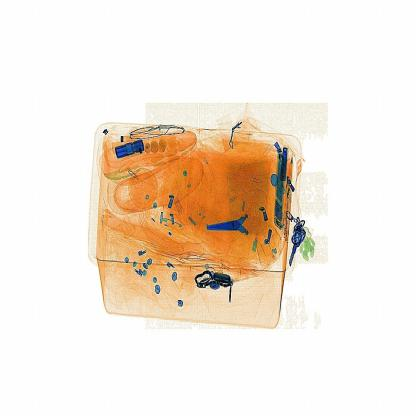gun: (206, 205, 272, 249)
